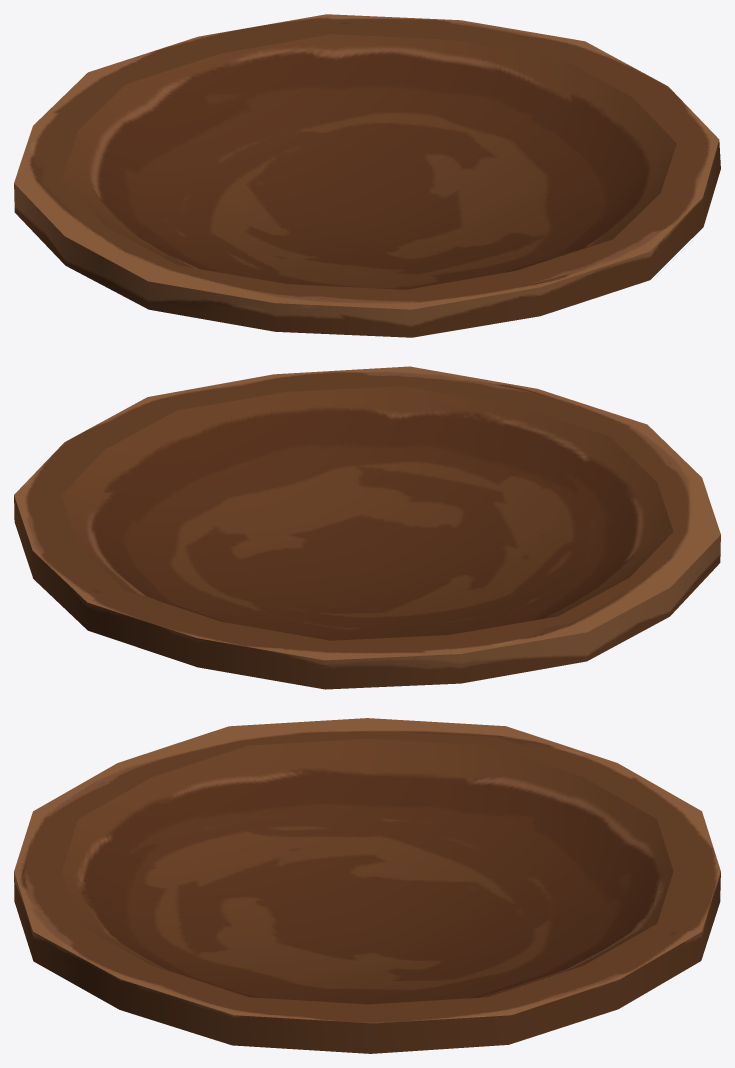
The model's file is SM_PROP_plate_dungeon_03.fbx.
3 renders of one model, top to bottom at view 1: azimuth 30°, elevation 25°; view 2: azimuth 150°, elevation 25°; view 3: azimuth 270°, elevation 25°, orthographic. The views are drawn at different scales.
Visible parts, largest first — view 1: SM_PROP_plate_dungeon_03; view 2: SM_PROP_plate_dungeon_03; view 3: SM_PROP_plate_dungeon_03.
Boxes of the visible parts, box(x1,y1,x2,y2) form: SM_PROP_plate_dungeon_03: box(14, 14, 720, 337); SM_PROP_plate_dungeon_03: box(14, 366, 720, 689); SM_PROP_plate_dungeon_03: box(14, 718, 720, 1053).
Size of the model in its own units: 31.54 by 3.99 by 30.81.
